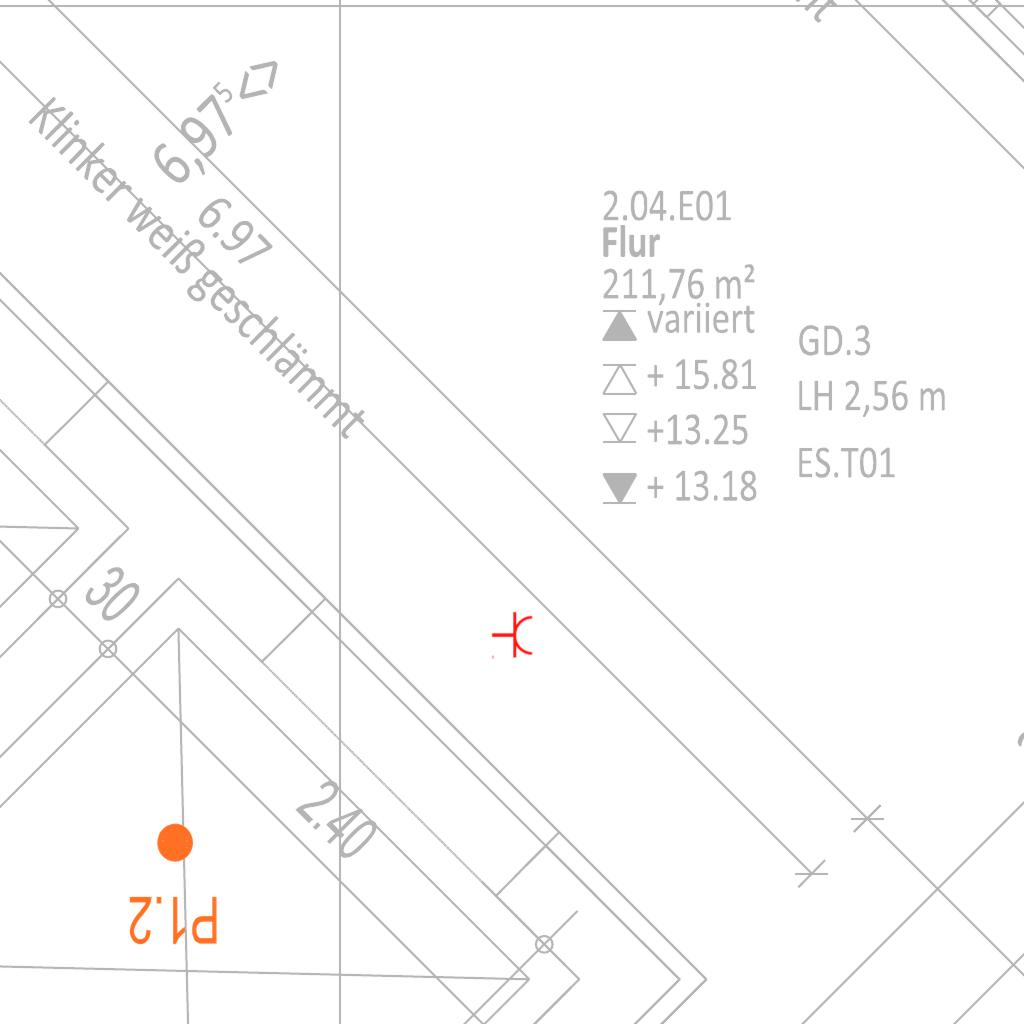Downlight_LED_Einbauleuchten_Flur: (127, 820, 220, 948)
Schukosteckdose_einfach: (491, 611, 534, 661)
